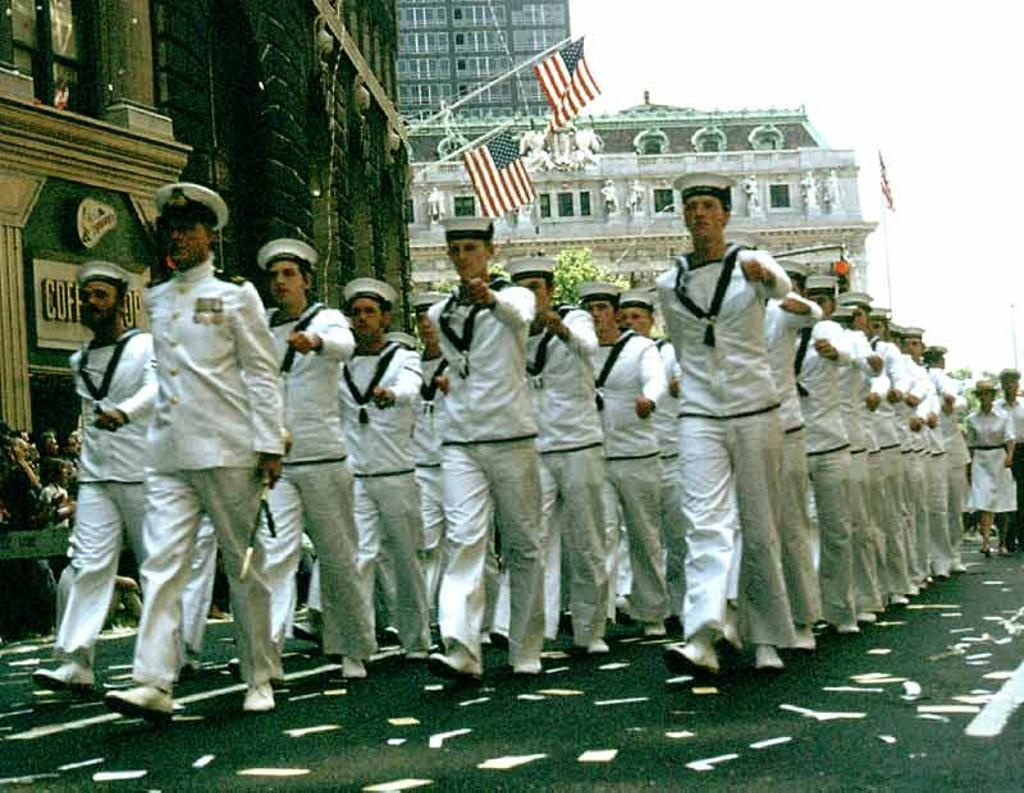human_face: (164, 215, 206, 262), (684, 197, 722, 239), (80, 282, 116, 326), (446, 237, 484, 277), (266, 263, 302, 301), (515, 276, 547, 312), (351, 299, 381, 335), (584, 298, 612, 328), (416, 312, 442, 344), (620, 307, 648, 335), (844, 302, 866, 328), (808, 291, 830, 313), (783, 276, 801, 302), (868, 318, 884, 338), (904, 336, 920, 356), (925, 352, 941, 370), (46, 435, 58, 454), (977, 389, 991, 405), (1002, 375, 1016, 391), (54, 462, 66, 480), (17, 442, 29, 458), (66, 438, 74, 451)
